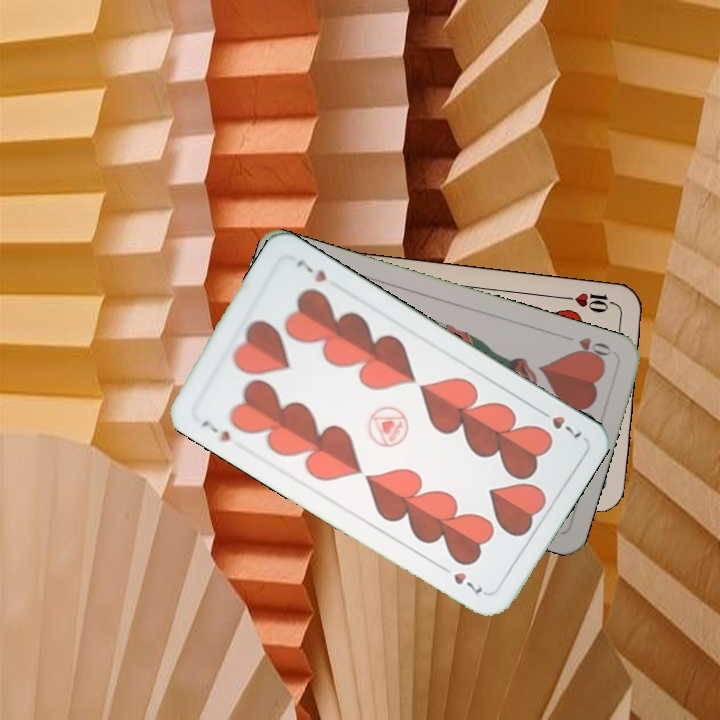H10: (561, 288, 620, 316)
H7: (533, 404, 585, 441), (197, 416, 233, 445)
HO: (568, 333, 614, 364)
